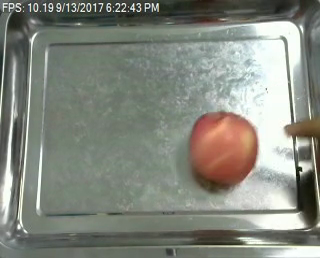Apple: (187, 109, 259, 189)
